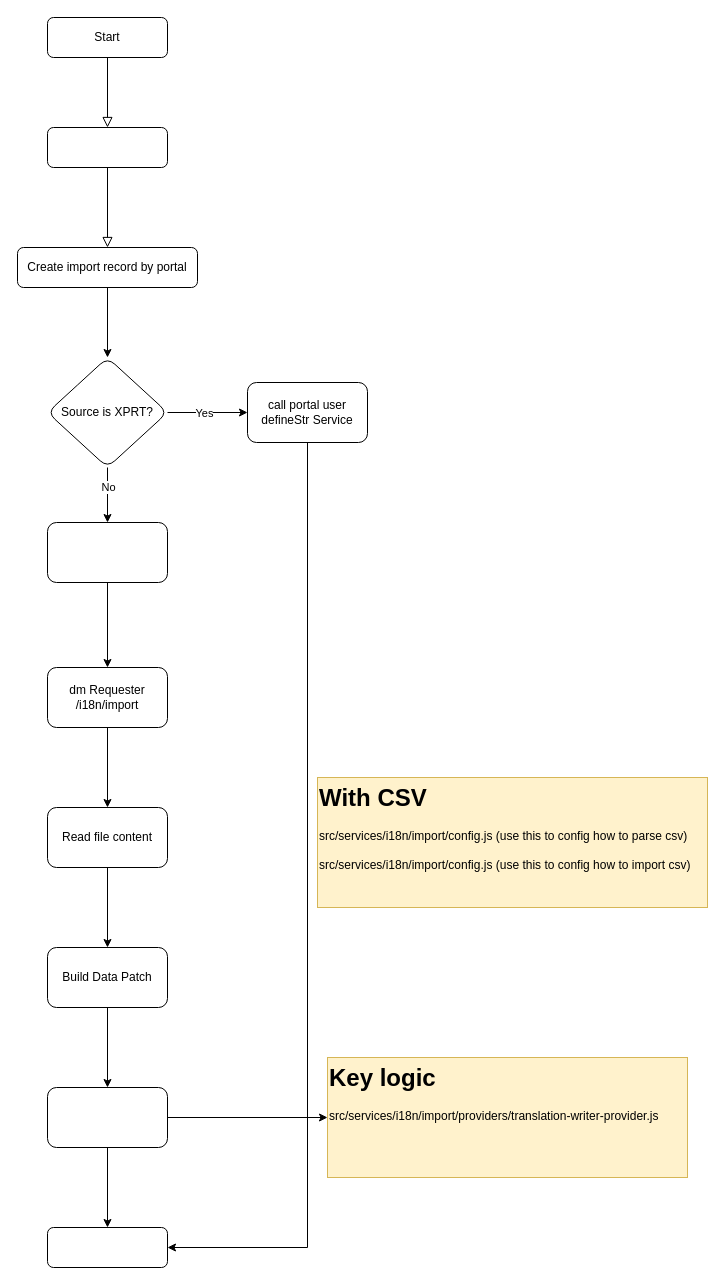
This 725x1285 diagram has some shape labels left out. The centre of each missing label's shape, as x and y in pixels:
call DM translation import service: the point at 107,552
End: the point at 107,1247
Update into DB: the point at 107,1117
Upload-file by portal: the point at 107,147
